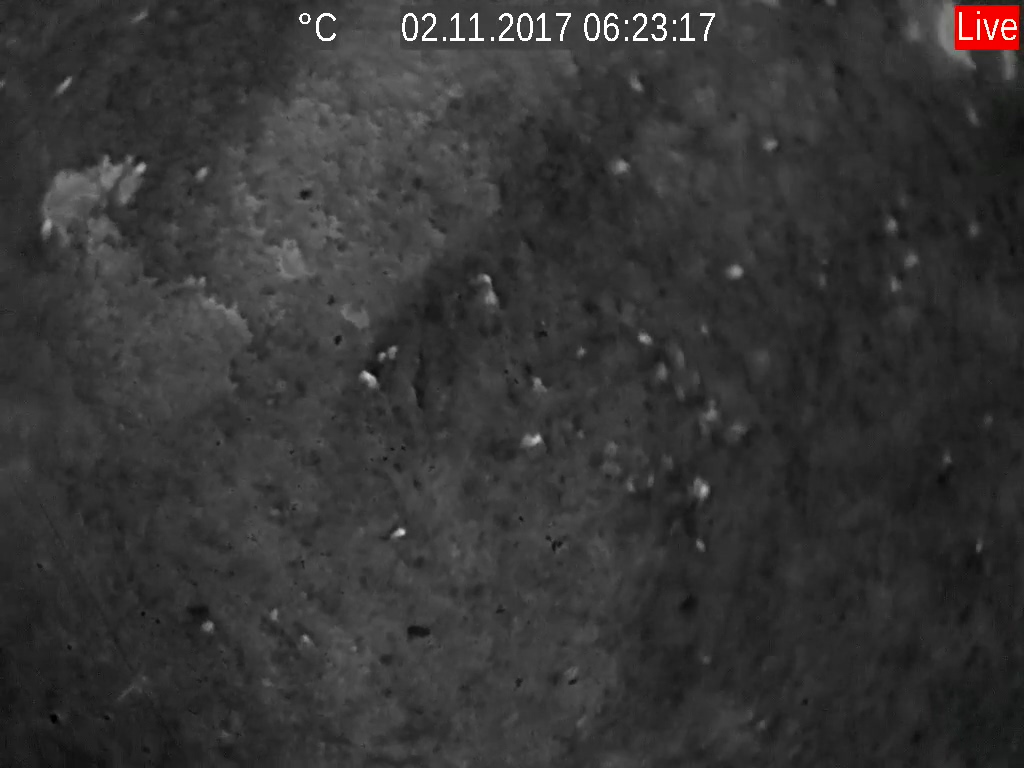warren: (475, 267, 503, 313), (111, 676, 149, 709), (515, 424, 551, 454), (128, 154, 152, 194), (35, 210, 60, 244), (50, 69, 77, 98), (354, 361, 381, 390), (688, 474, 712, 504), (386, 518, 409, 544)
